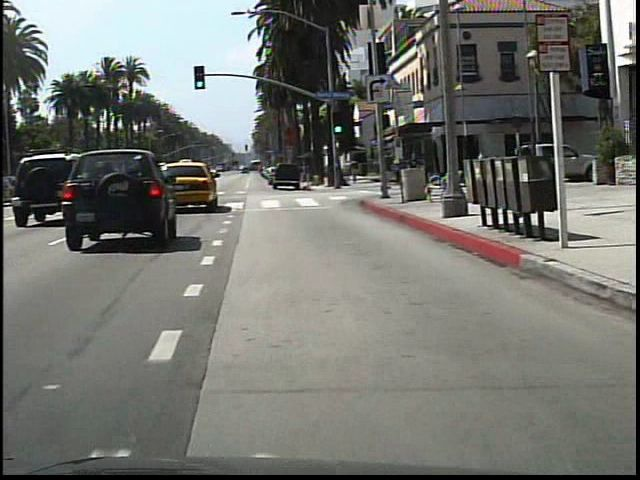person: (474, 148, 491, 192), (385, 150, 398, 194)
